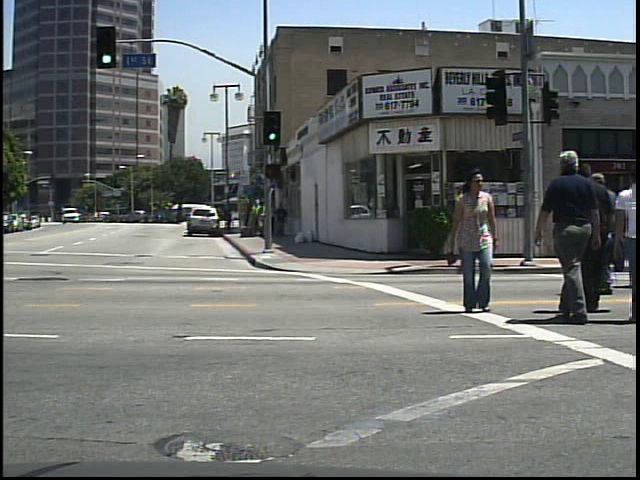person: (544, 143, 608, 322), (449, 168, 505, 317)
